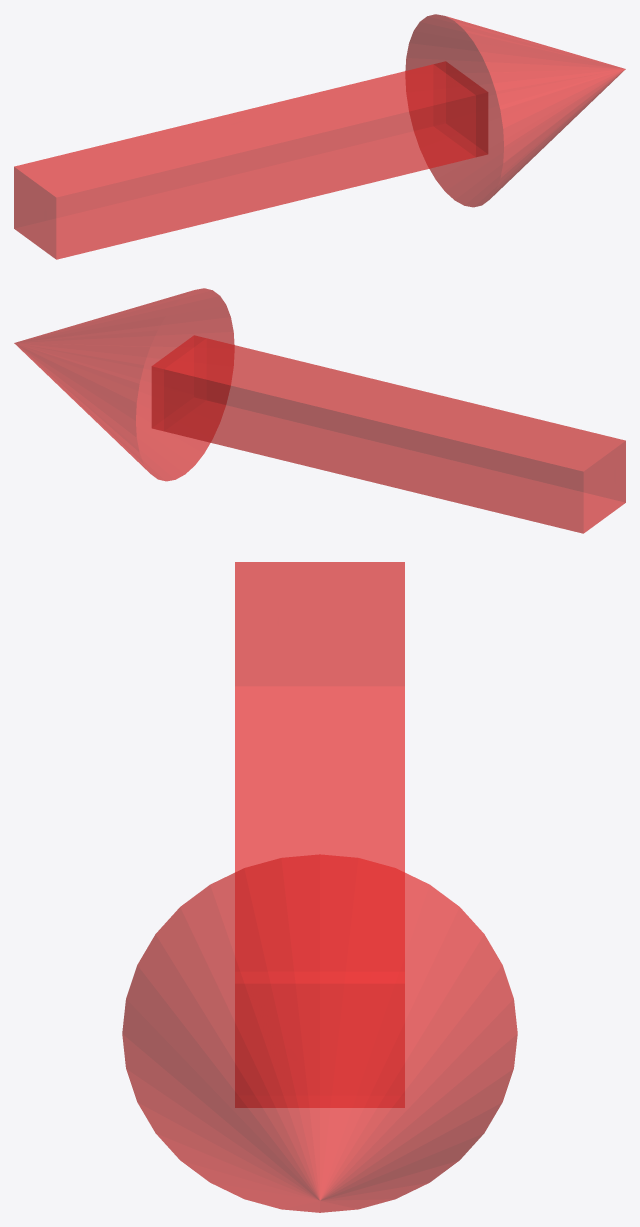
Rendered from redTArrow.obj.
3 renders of one model, top to bottom at view 1: azimuth 30°, elevation 25°; view 2: azimuth 150°, elevation 25°; view 3: azimuth 270°, elevation 25°, orthographic. The views are drawn at different scales.
Visible parts, largest first — view 1: Cube, Cone; view 2: Cube, Cone; view 3: Cone, Cube.
Part boxes in pixels (box(x1,y1,x2,y2)): Cube: box(14, 61, 487, 259); Cone: box(405, 14, 625, 207); Cube: box(152, 335, 625, 533); Cone: box(14, 288, 234, 481); Cone: box(122, 854, 517, 1212); Cube: box(235, 562, 404, 1107).
Size of the model in its own units: 5.17 by 1.5 by 1.5.
2 materials, 2 textured.
